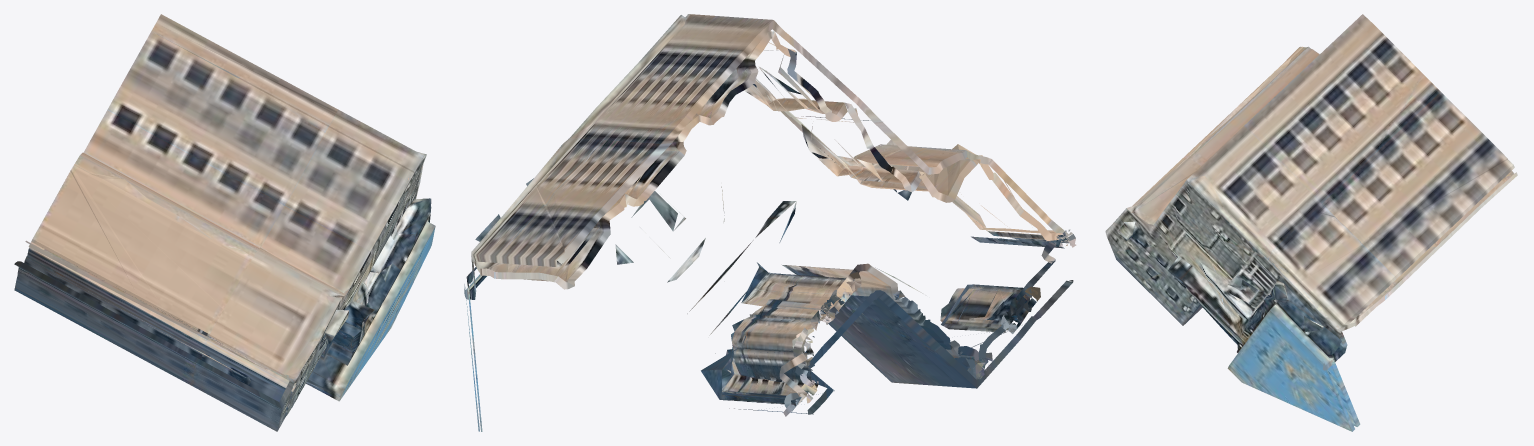
The model's file is masp_tile_1.glb.
3 renders of one model, left to right at view 1: azimuth 30°, elevation 25°; view 2: azimuth 150°, elevation 25°; view 3: azimuth 270°, elevation 25°, orthographic. The views are drawn at different scales.
Bounding box in the file's own units: 45.57 × 36.3 × 42.4.
3 materials, 3 textured.
